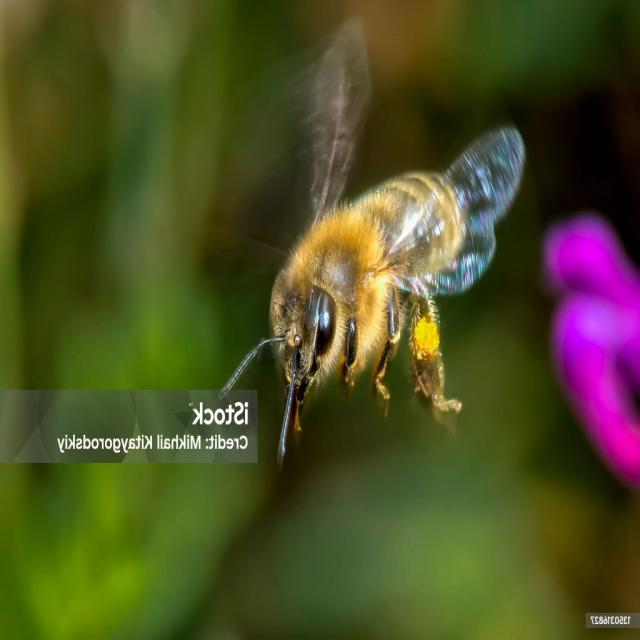bees: (217, 10, 527, 472)
